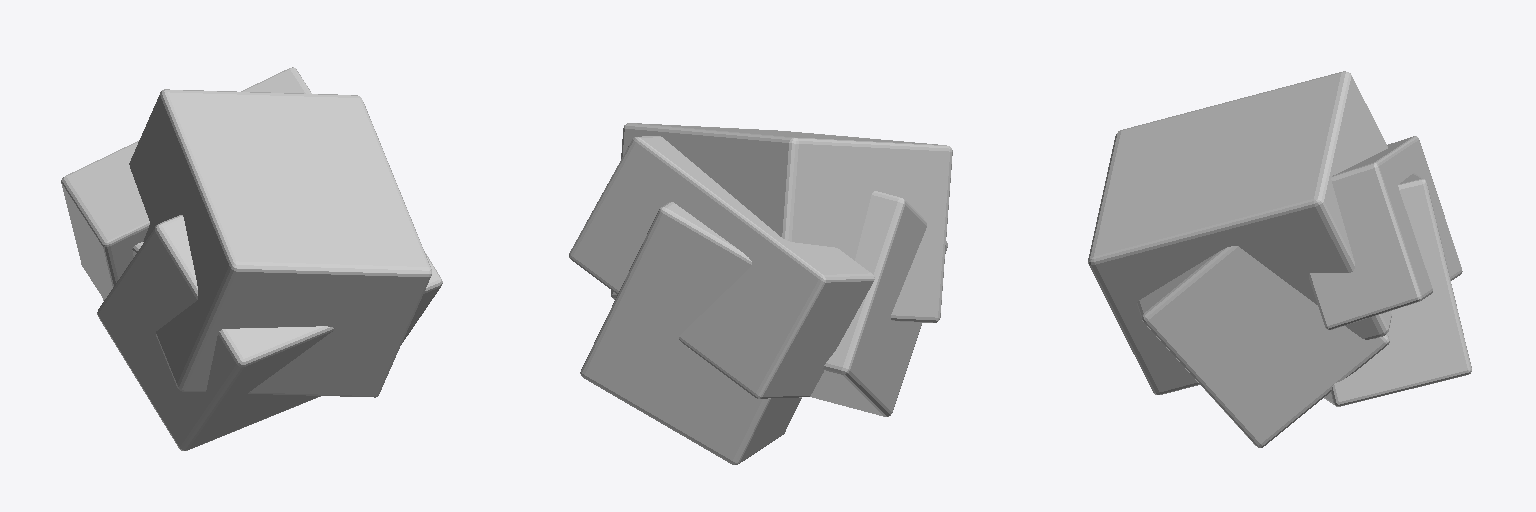
File: RUBY_CUBE.obj
The picture shows the model from 3 angles: view 1: azimuth 30°, elevation 25°; view 2: azimuth 150°, elevation 25°; view 3: azimuth 270°, elevation 25°; orthographic projection.
Visible parts, largest first — view 1: MULTICUBE.1; view 2: MULTICUBE.1; view 3: MULTICUBE.1.
Boxes of the visible parts, <box> form: MULTICUBE.1: <box>61,67,442,450</box>; MULTICUBE.1: <box>569,123,952,464</box>; MULTICUBE.1: <box>1088,71,1471,447</box>.
Size of the model in its own units: 49.9 by 57.31 by 63.97.